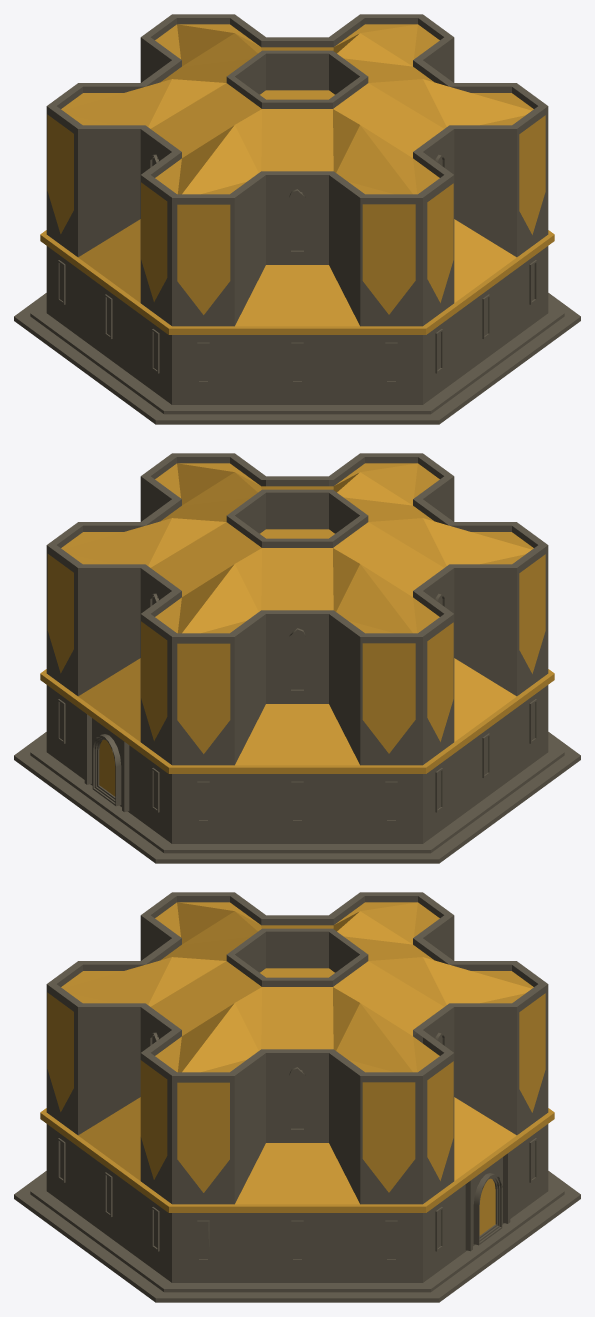
File: bank_lite.glb
3 renders of one model, top to bottom at view 1: azimuth 30°, elevation 25°; view 2: azimuth 150°, elevation 25°; view 3: azimuth 270°, elevation 25°, orthographic.
Visible parts, largest first — view 1: Bank; view 2: Bank; view 3: Bank.
Boxes of the visible parts, x1,y1,x2,y2 form: Bank: (14, 14, 580, 424); Bank: (14, 453, 580, 863); Bank: (14, 892, 580, 1302).
Size of the model in its own units: 1.37 by 0.7506 by 1.58.
